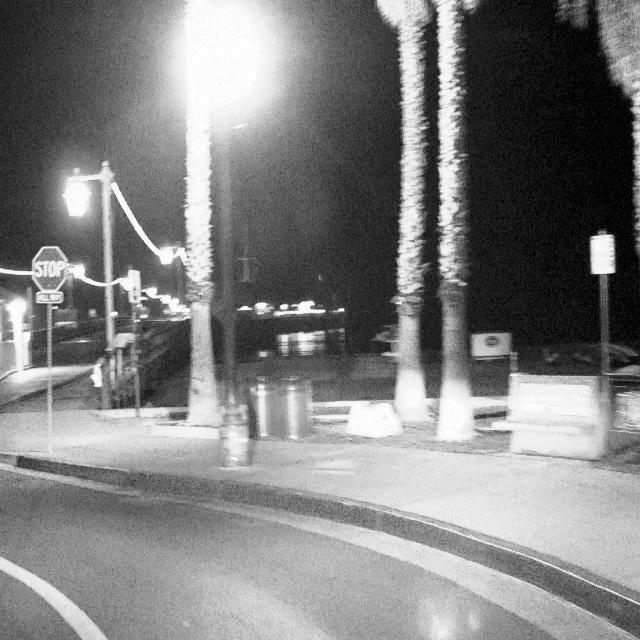Sign: (32, 246, 68, 292), (589, 234, 615, 274)
